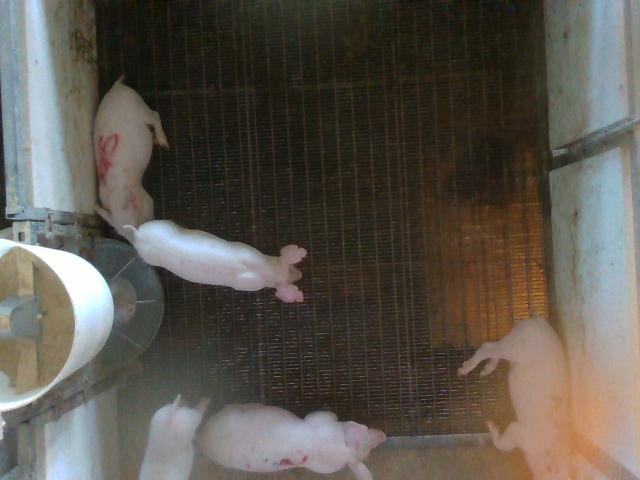pig-2: (459, 318, 571, 479)
pig-3: (198, 404, 386, 479)
pig-5: (94, 78, 169, 234)
